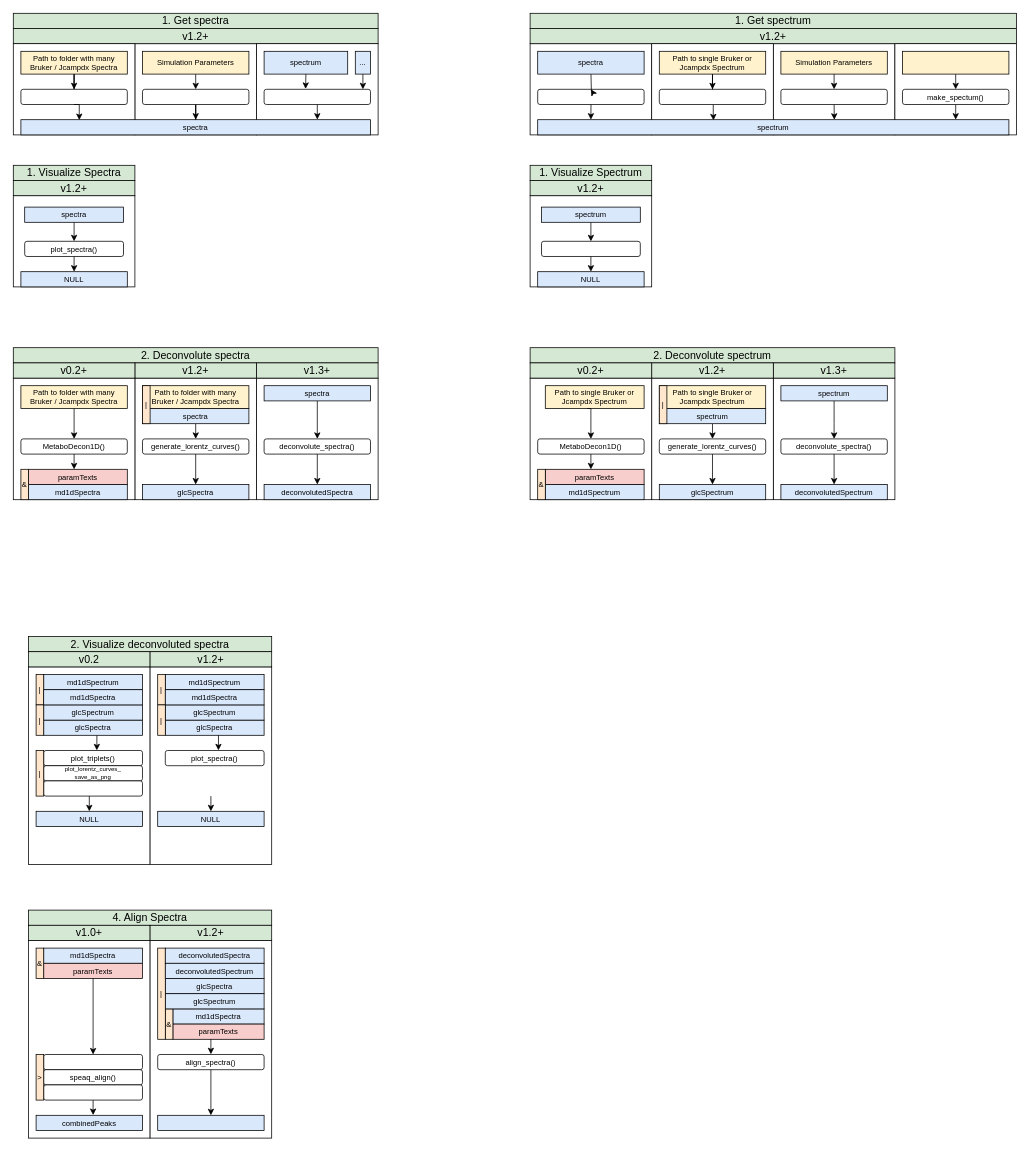
Image size: 1030x1151. Some labels were removed from this diagram. Here are the shapes that lost their labels. From the top down, the box of each, then its label:
(902, 51, 1009, 74): Intensities & Chemical Shifts
(20, 89, 127, 104): read_spectra()
(142, 89, 249, 104): simulate_spectra()
(263, 89, 370, 104): make_spectra()
(537, 89, 644, 104): index
(659, 89, 766, 104): read_spectum()
(780, 89, 887, 104): simulate_spectrum()
(541, 241, 640, 256): plot_spectrum()
(43, 780, 142, 796): plot_spectrum_superposition_ save_as_png
(43, 1054, 142, 1070): gen_feat_mat()
(43, 1084, 142, 1100): combine_peaks()
(157, 1115, 264, 1130): alignedSpectra
